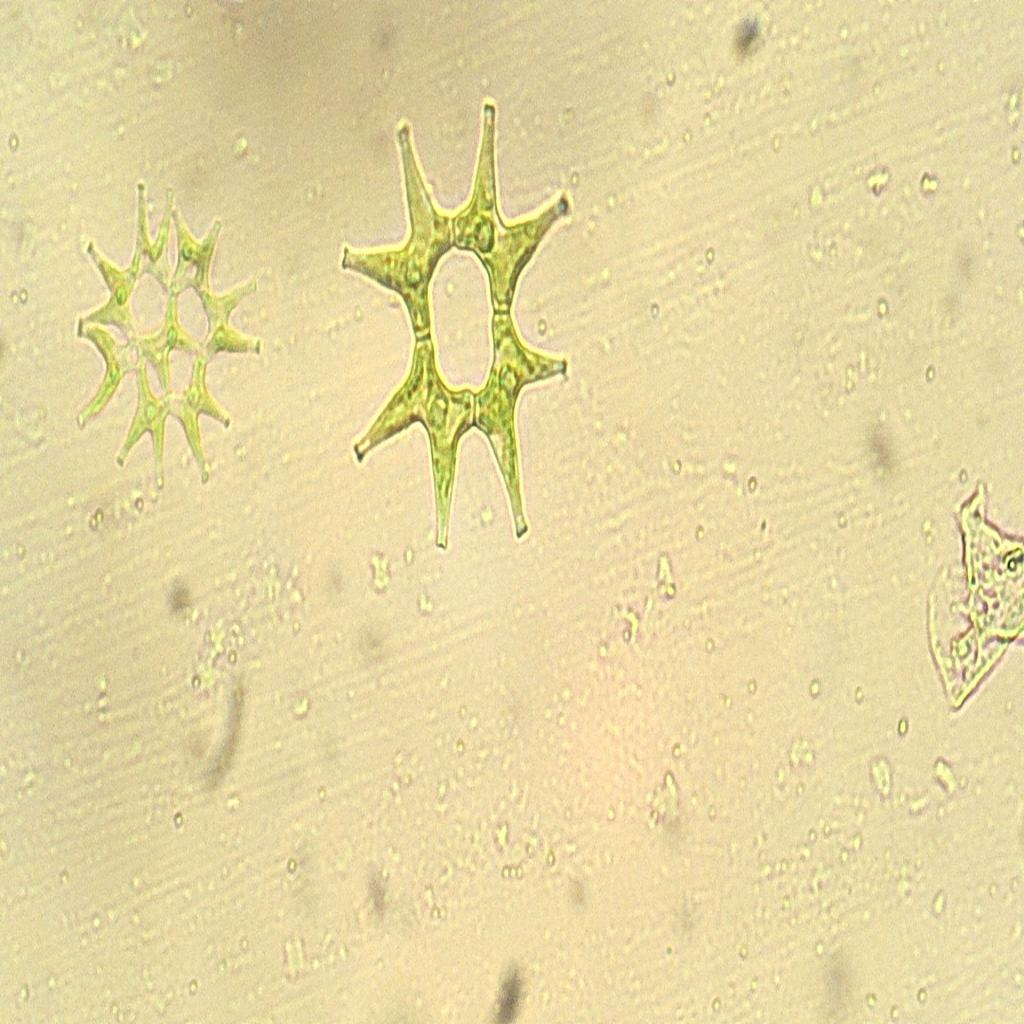Pediastrum_75O: (319, 73, 625, 581)
